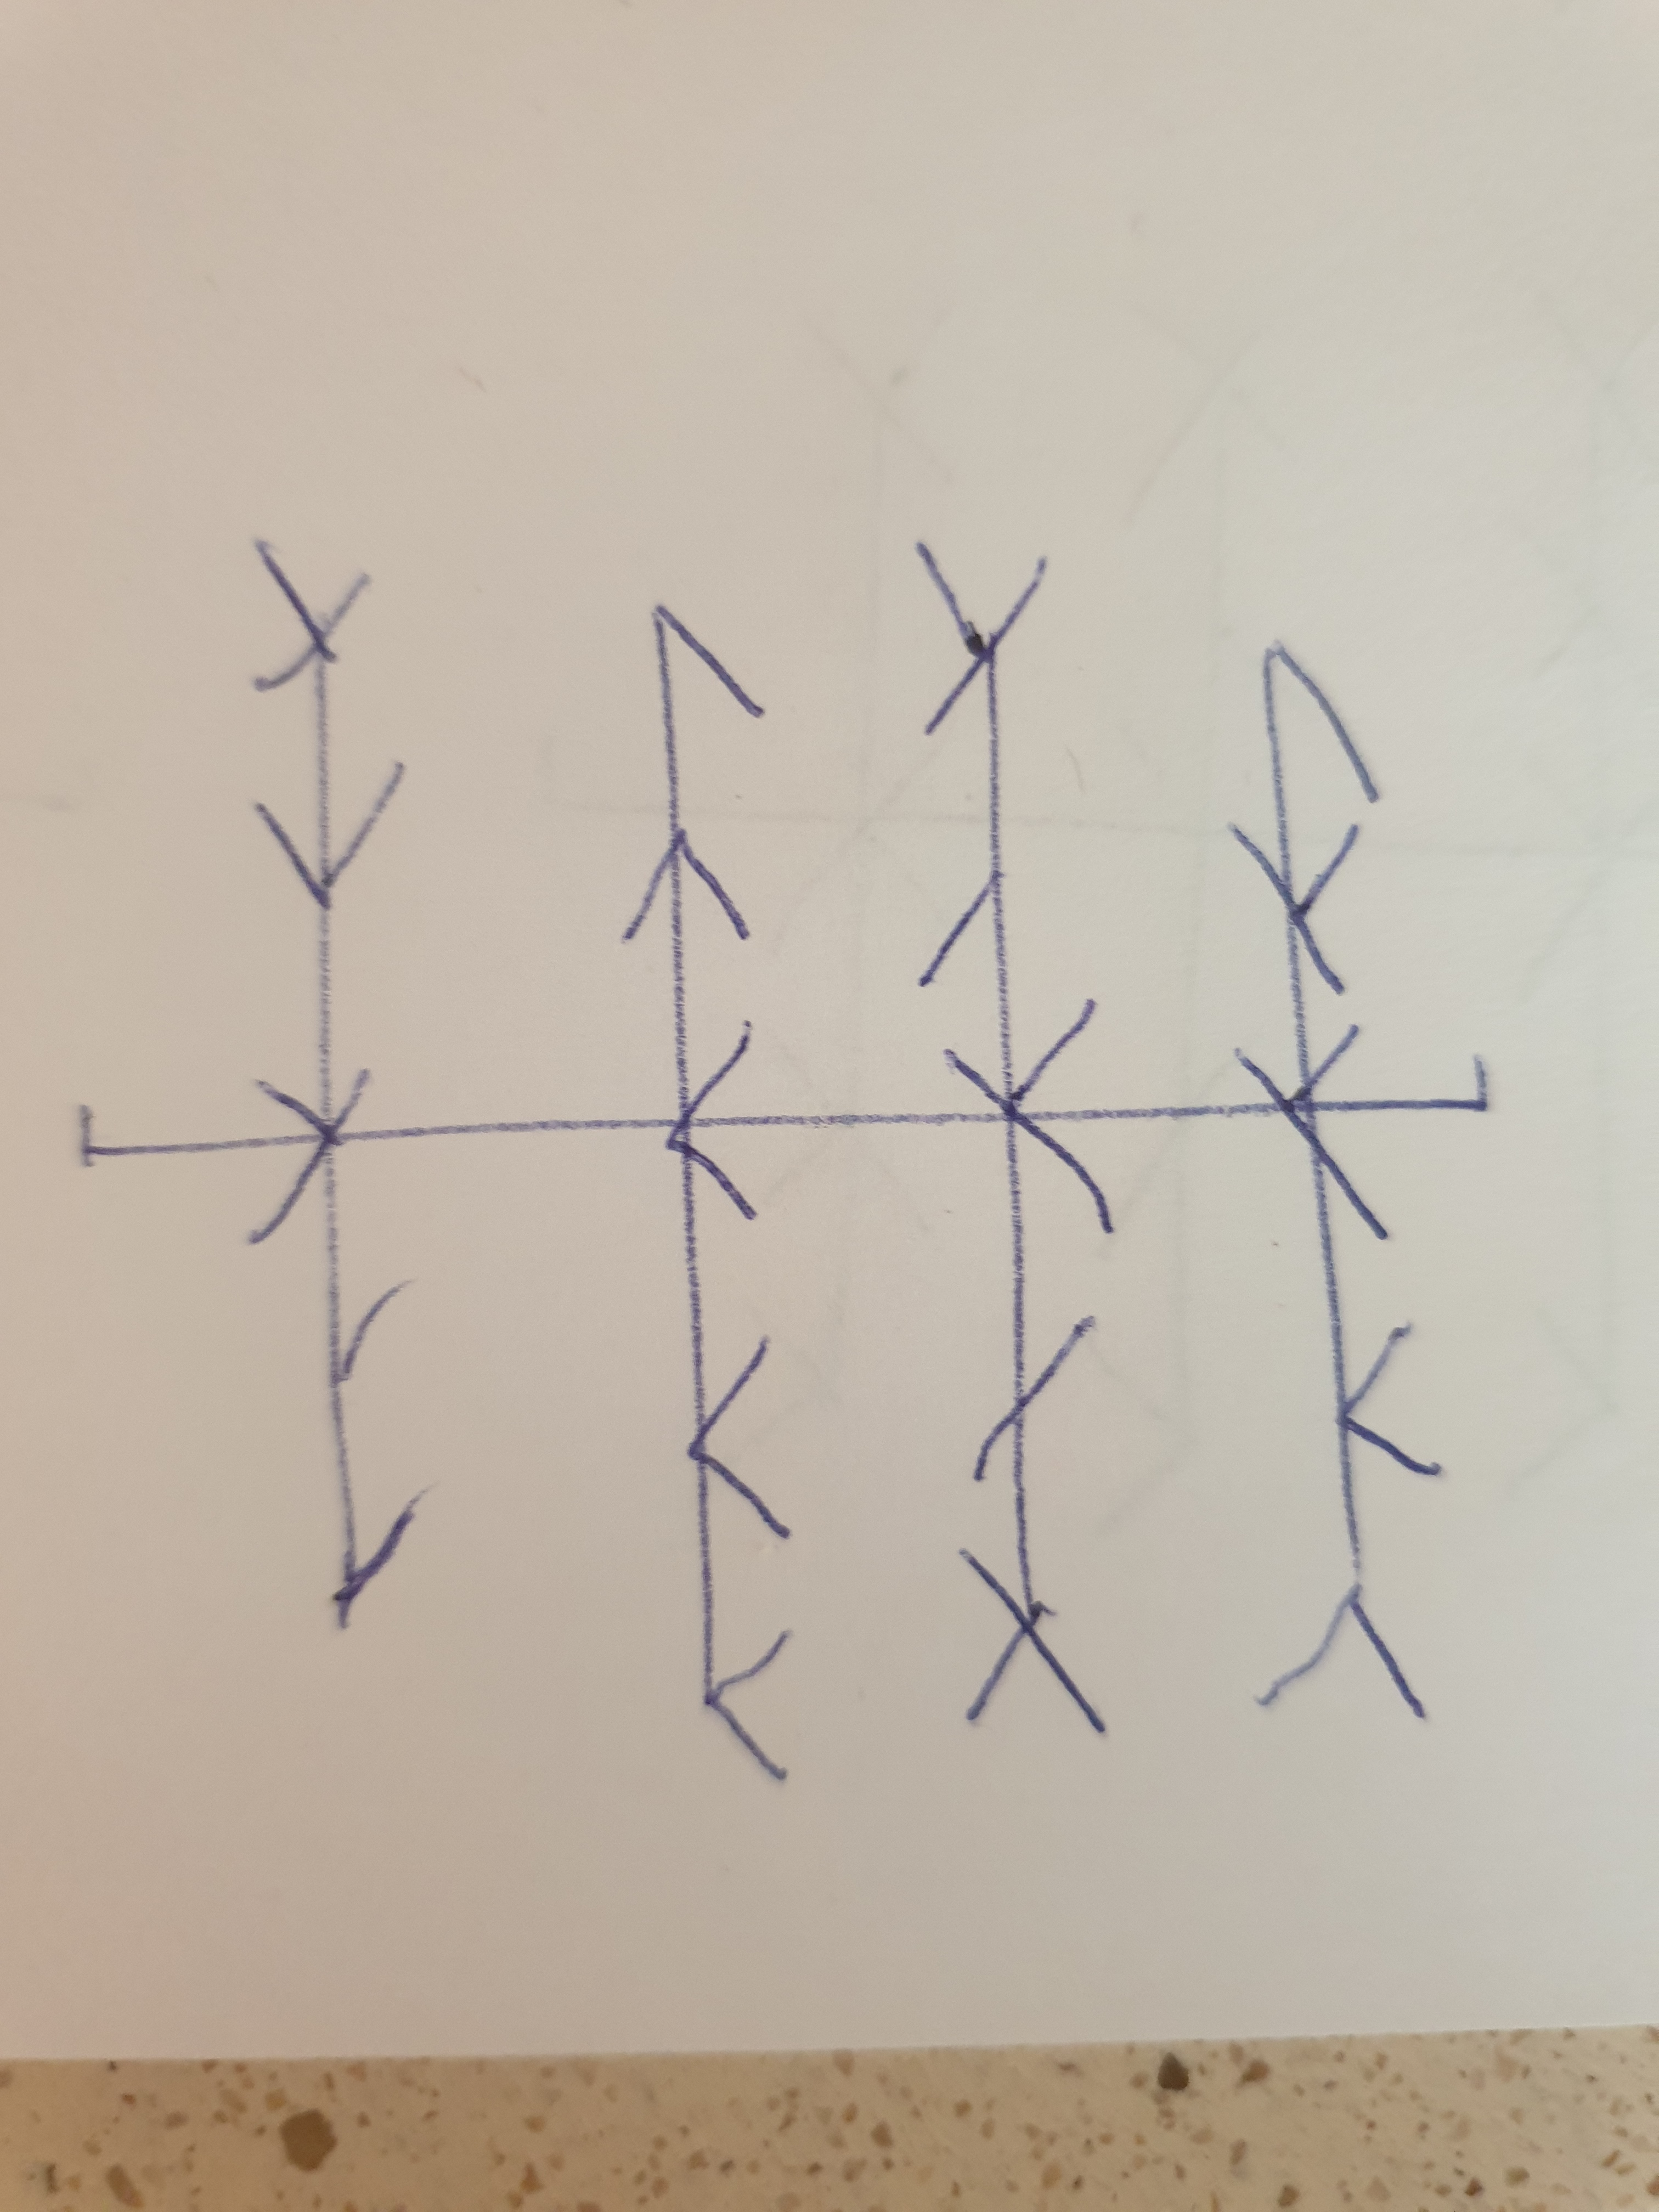Bar: (911, 538, 1114, 1737), (1229, 639, 1445, 1721), (246, 535, 437, 1632), (622, 604, 793, 1778)
Barcode: (78, 536, 1492, 1782)
End: (1345, 1055, 1490, 1118)
Start: (80, 1103, 267, 1169)
